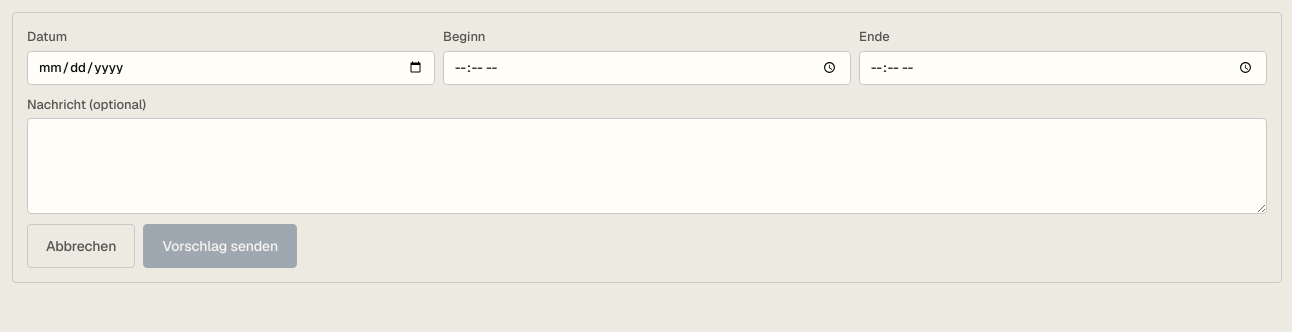
Test case: provider current viewing › shows the backend future and duration validation in German
Type "2026-01-15" into the date field labelled "Datum".
click(231, 68); type("2026-01-15")  # box x1=27 y1=50 x2=435 y2=84
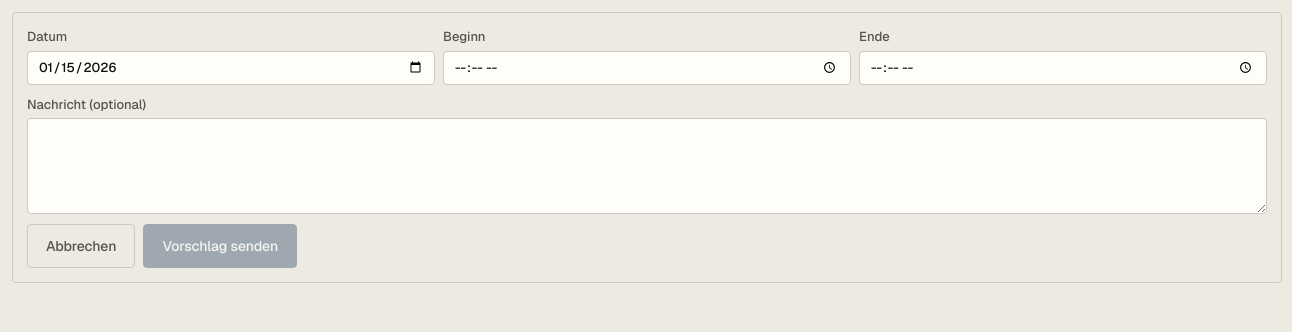
Type "16:00" into the time field labelled "Beginn".
click(647, 68); type("16:00")  # box x1=443 y1=50 x2=851 y2=84
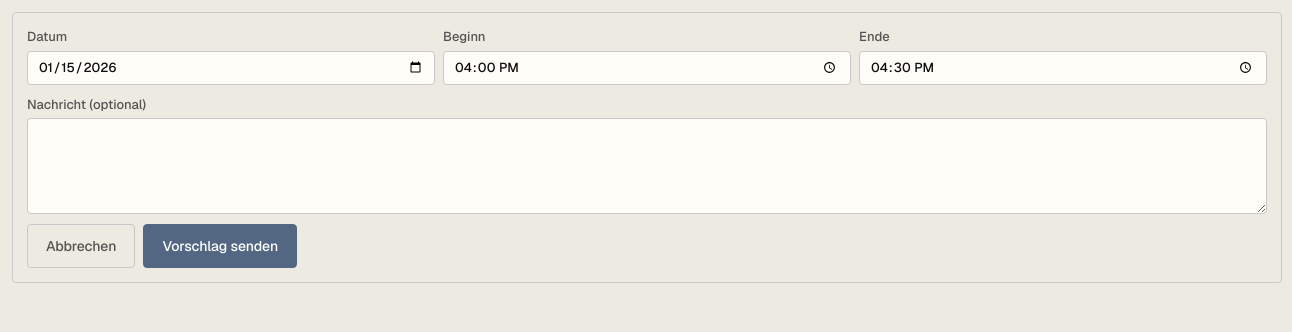
Click the button "Vorschlag senden".
click(220, 246)  # box x1=143 y1=224 x2=297 y2=268
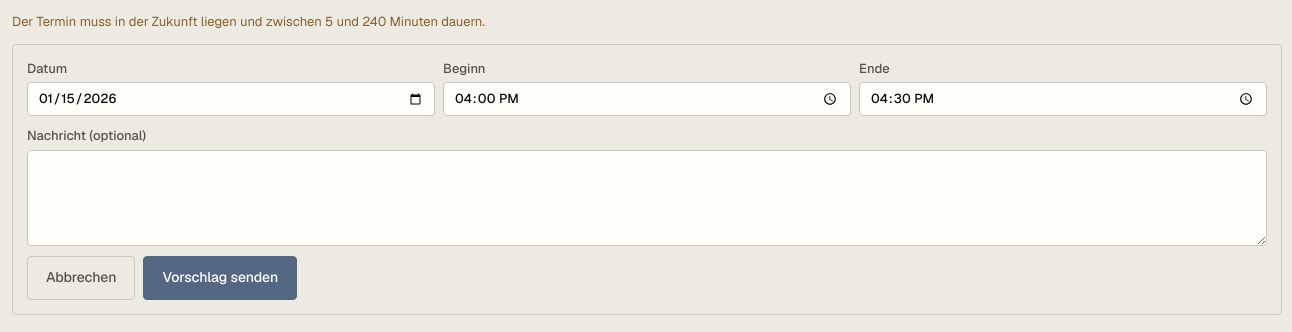
Now the message reads "Der Termin muss in der Zukunft liegen und zwischen 5 und 240 Minuten dauern.", box x1=12 y1=13 x2=485 y2=30
